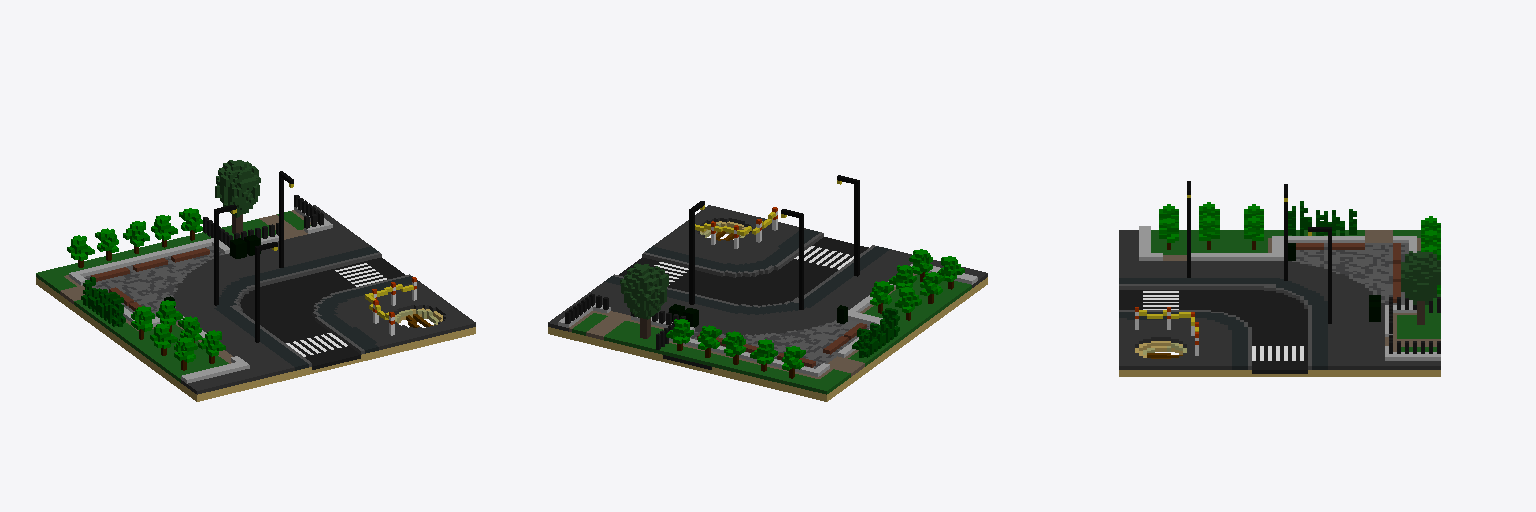
3 renders of one model, left to right at view 1: azimuth 30°, elevation 25°; view 2: azimuth 150°, elevation 25°; view 3: azimuth 270°, elevation 25°, orthographic.
Parts seen in each view (by area): view 1: cityParkCorner; view 2: cityParkCorner; view 3: cityParkCorner.
Part boxes in pixels (x1,y1,x2,y2): cityParkCorner: (36,160,475,401); cityParkCorner: (548,175,987,401); cityParkCorner: (1119,181,1440,376).
Size of the model in its own units: 80 by 29 by 80.
Materials: 1 (1 with a texture image).